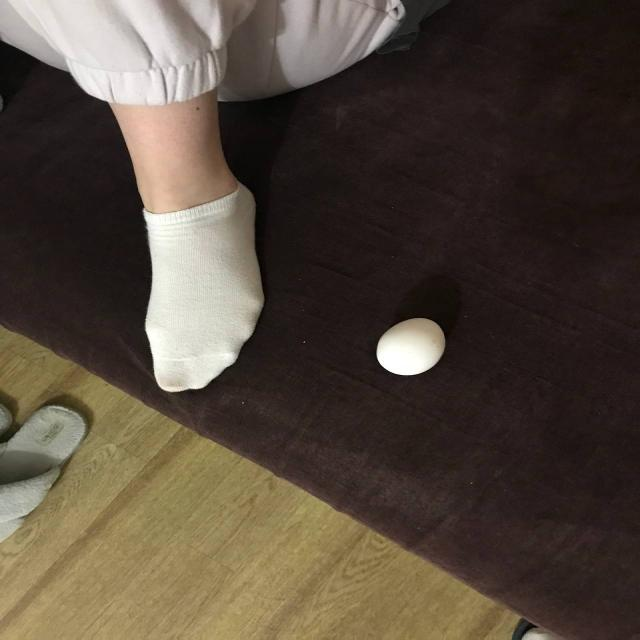egg: (376, 317, 448, 375)
